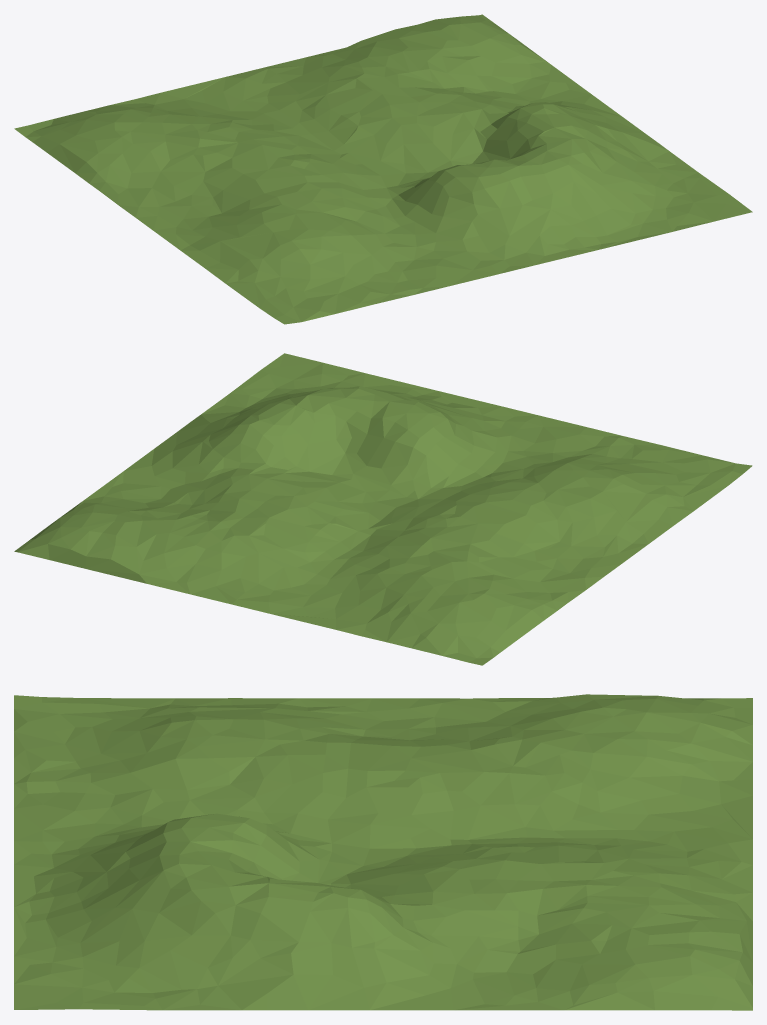
Rendered from result.gltf.
The picture shows the model from 3 angles, top to bottom: view 1: azimuth 30°, elevation 25°; view 2: azimuth 150°, elevation 25°; view 3: azimuth 270°, elevation 25°; orthographic projection. The views are drawn at different scales.
Visible parts, largest first — view 1: Terrain_2; view 2: Terrain_2; view 3: Terrain_2.
Boxes of the visible parts, x1,y1,x2,y2 form: Terrain_2: (14,14,752,324); Terrain_2: (14,353,752,665); Terrain_2: (14,694,752,1010).
Size of the model in its own units: 2001 by 176 by 2000.
